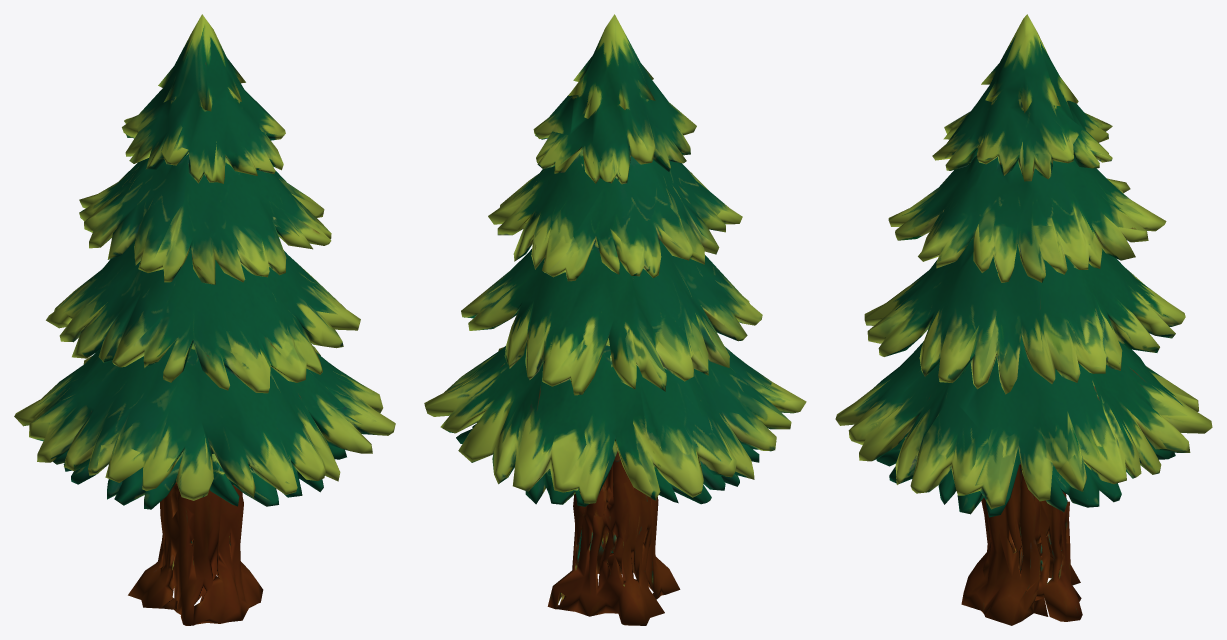
Rendered from tree_pine_v.glb.
The picture shows the model from 3 angles, left to right: view 1: azimuth 30°, elevation 25°; view 2: azimuth 150°, elevation 25°; view 3: azimuth 270°, elevation 25°; orthographic projection.
Parts seen in each view (by area): view 1: Body; view 2: Body; view 3: Body.
Part boxes in pixels (left/top/right/bottom): Body: left=14, top=14, right=395, bottom=625; Body: left=424, top=14, right=806, bottom=625; Body: left=835, top=14, right=1212, bottom=625.
Size of the model in its own units: 2.84 by 5.21 by 3.03.
1 material, 1 textured.
